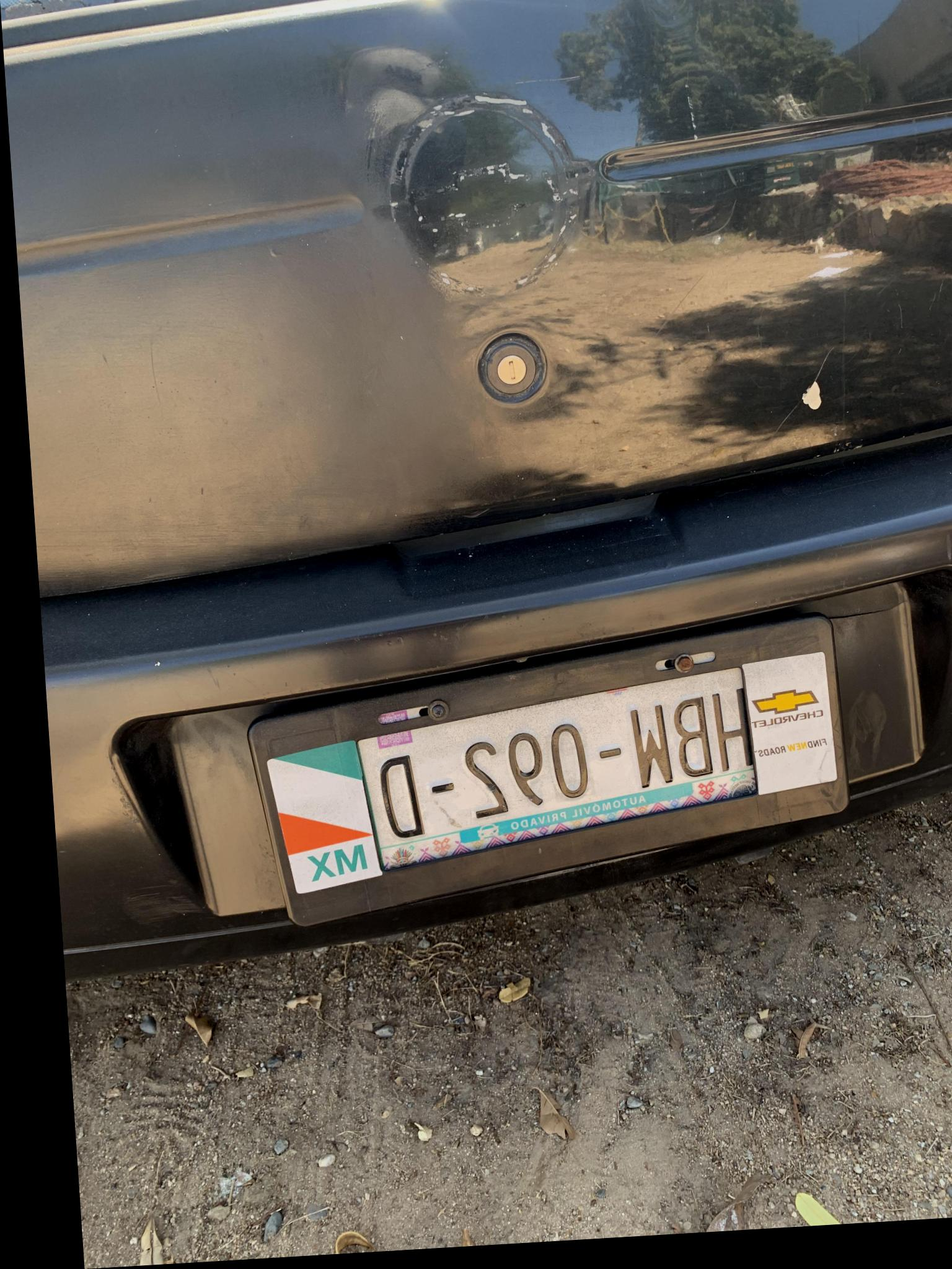License_Plate: (337, 605, 800, 898)
